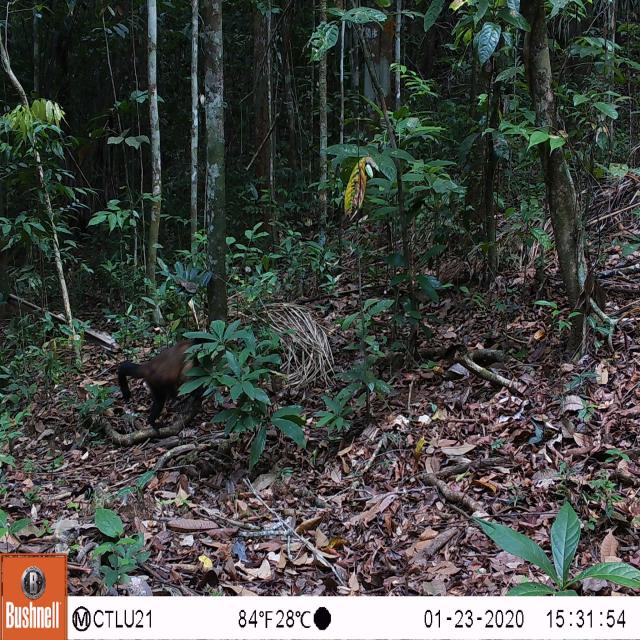Margarita Island Capuchin: (112, 324, 226, 447)
